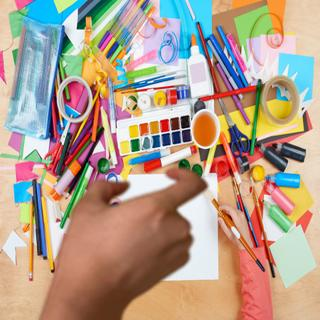HATE: (38, 160, 212, 307)
